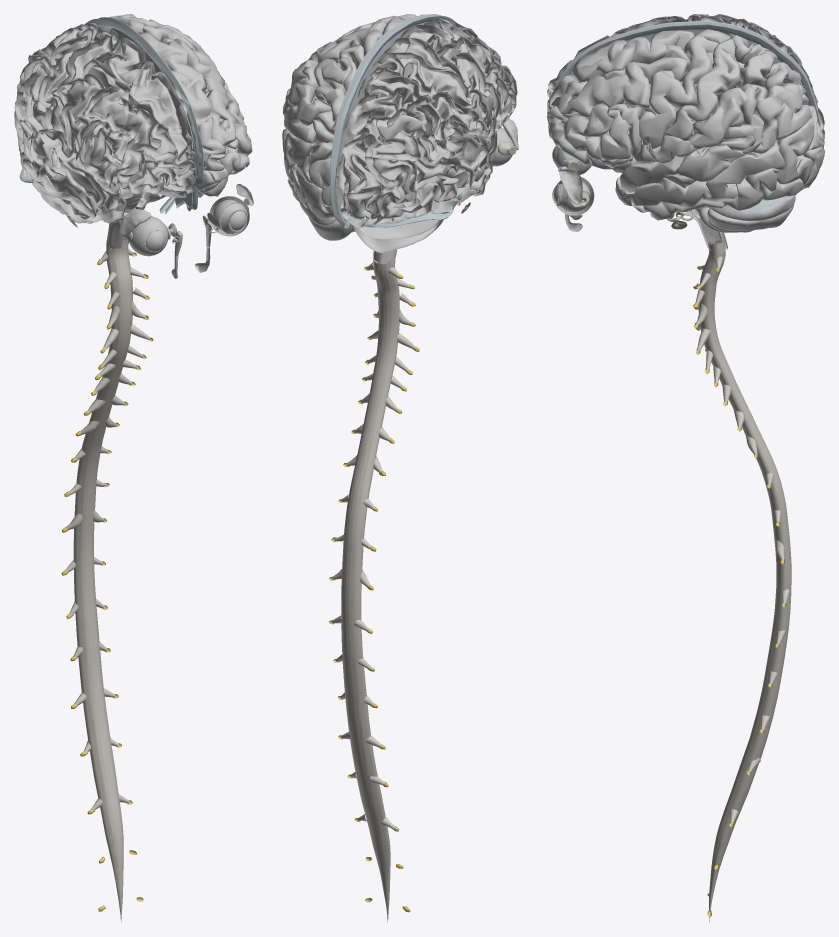
The model's file is cns.glb.
The picture shows the model from 3 angles, left to right: view 1: azimuth 30°, elevation 25°; view 2: azimuth 150°, elevation 25°; view 3: azimuth 270°, elevation 25°; orthographic projection.
Parts seen in each view (by area): view 1: 2676, 1781, 2871, 2228, 2870, 846, 1780, 2144, 2931, 1810, 2954, 1990 (+12 smaller); view 2: 2676, 95, 846, 2910, 2144, 2954, 1385, 94, 1810, 2228, 2909, 1781 (+21 smaller); view 3: 2676, 1780, 2227, 1809, 2870, 846, 2143, 2953, 2930, 94, 1184, 2909 (+10 smaller).
Boxes of the visible parts, box(x1,y1,x2,y2) form: 2676: box(65, 240, 150, 922); 1781: box(82, 59, 176, 184); 2871: box(108, 37, 196, 165); 2228: box(56, 34, 112, 151); 2870: box(138, 32, 225, 166); 846: box(84, 17, 203, 211); 1780: box(173, 38, 252, 154); 2144: box(38, 27, 93, 133); 2931: box(20, 118, 107, 206); 1810: box(14, 111, 96, 218); 2954: box(14, 56, 51, 132); 1990: box(128, 164, 190, 193); 2676: box(331, 251, 415, 918); 95: box(365, 95, 447, 164); 846: box(330, 14, 456, 228); 2910: box(348, 67, 418, 139); 2144: box(396, 52, 487, 122); 2954: box(416, 92, 485, 158); 1385: box(365, 155, 416, 217); 94: box(284, 66, 331, 143); 1810: box(413, 153, 494, 196); 2228: box(405, 38, 499, 119); 2909: box(314, 57, 352, 131); 1781: box(436, 36, 517, 95); 2676: box(695, 240, 791, 922); 1780: box(551, 57, 690, 150); 2227: box(639, 33, 718, 149); 1809: box(631, 142, 784, 207); 2870: box(548, 30, 694, 111); 846: box(553, 20, 820, 159); 2143: box(663, 38, 740, 140); 2953: box(688, 83, 763, 154); 2930: box(619, 145, 743, 192); 94: box(748, 82, 812, 154); 1184: box(643, 168, 780, 220); 2909: box(739, 44, 806, 95).
Bounding box in the file's own units: 0.1378 × 0.6458 × 0.1807.
